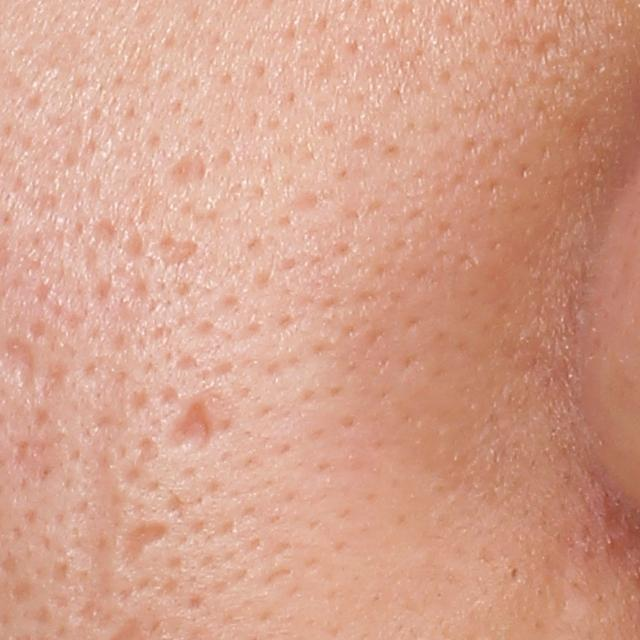atrophic_scar: (163, 396, 212, 451), (4, 335, 43, 401), (121, 518, 172, 568), (162, 143, 210, 188), (155, 234, 202, 268), (530, 28, 570, 65), (42, 359, 74, 396)
